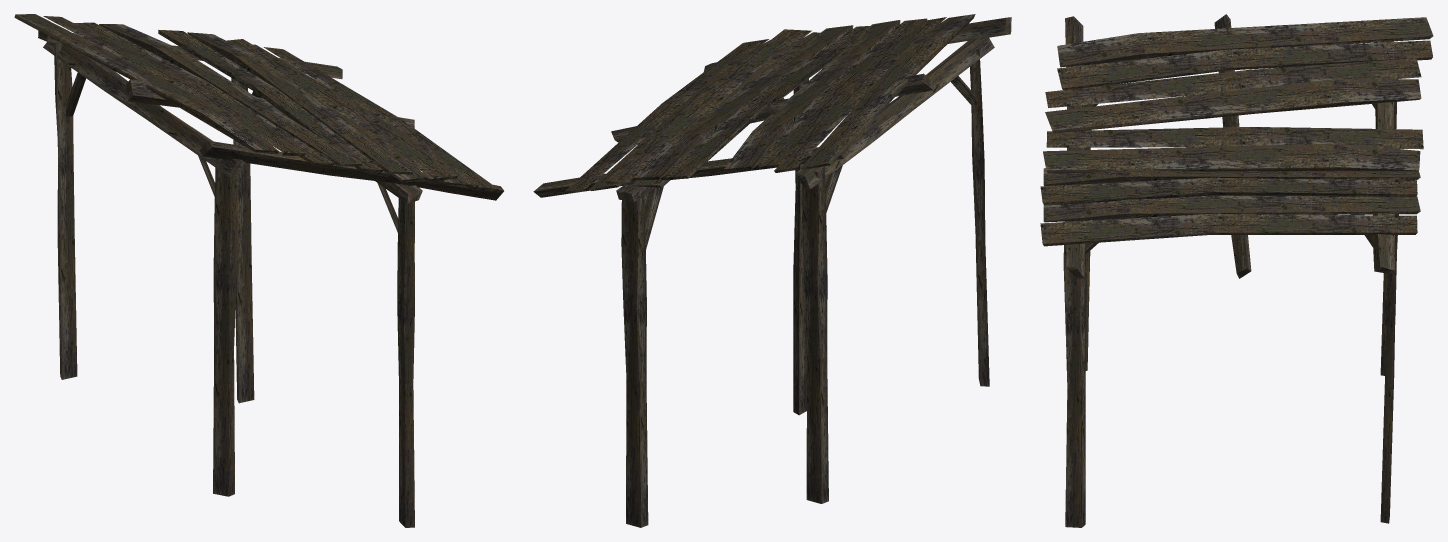
The model's file is schronienie3.glb.
3 views of the same model, side by side, from view 1: azimuth 30°, elevation 25°; view 2: azimuth 150°, elevation 25°; view 3: azimuth 270°, elevation 25° (orthographic). The views are drawn at different scales.
Parts seen in each view (by area): view 1: zengin; view 2: zengin; view 3: zengin.
Part boxes in pixels (x1,y1,x2,y2): zengin: [14, 14, 503, 527]; zengin: [533, 14, 1011, 527]; zengin: [1040, 14, 1433, 527].
Size of the model in its own units: 5.05 by 6.84 by 5.82.
1 material, 1 textured.
